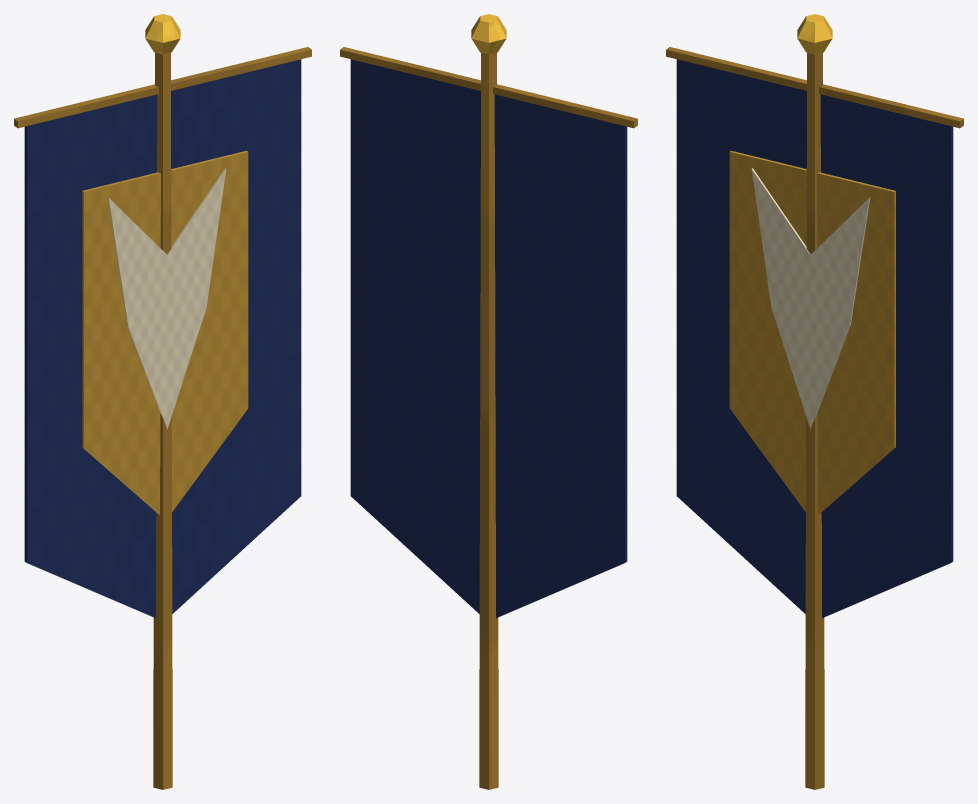
The model's file is SM_Prop_ArmadaBanner_HQ.glb.
3 renders of one model, left to right at view 1: azimuth 30°, elevation 25°; view 2: azimuth 150°, elevation 25°; view 3: azimuth 330°, elevation 25°, orthographic.
Visible parts, largest first — view 1: SM_Prop_ArmadaBanner_HQ; view 2: SM_Prop_ArmadaBanner_HQ; view 3: SM_Prop_ArmadaBanner_HQ.
Part boxes in pixels (<box>): SM_Prop_ArmadaBanner_HQ: <box>14,14,311,789</box>; SM_Prop_ArmadaBanner_HQ: <box>340,14,637,789</box>; SM_Prop_ArmadaBanner_HQ: <box>666,14,963,789</box>.
Bounding box in the file's own units: 1.5 × 3.74 × 0.1559.
1 material, 1 textured.
